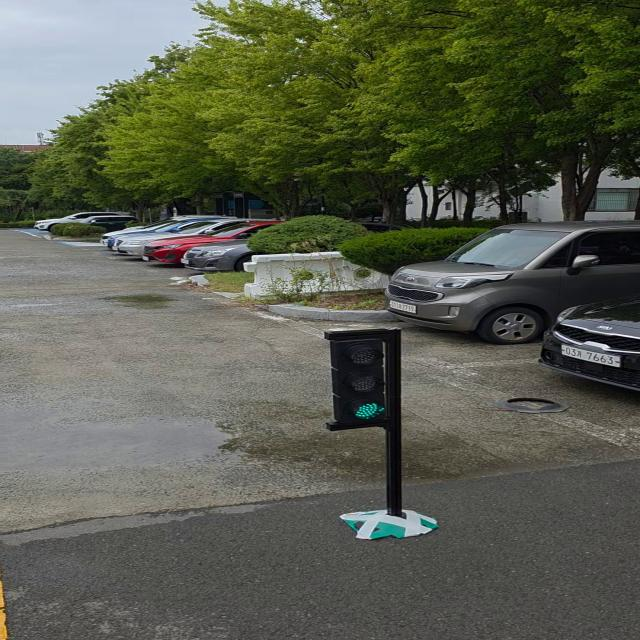green: (332, 330, 400, 430)
